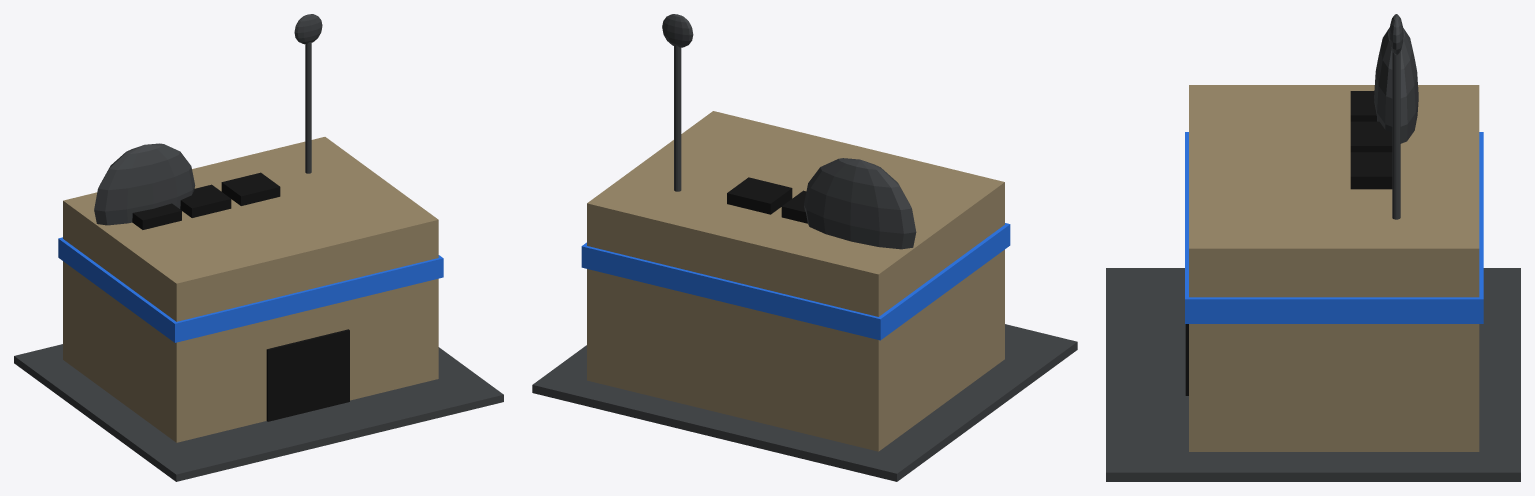
File: ae_command_hq.glb
3 views of the same model, side by side, from view 1: azimuth 30°, elevation 25°; view 2: azimuth 150°, elevation 25°; view 3: azimuth 270°, elevation 25° (orthographic). The views are drawn at different scales.
Visible parts, largest first — view 1: main, base, team_band, door, dish_big, vent_2, vent_1, mast, vent_0, dish; view 2: main, base, team_band, dish_big, vent_2, mast, dish, vent_1; view 3: main, base, team_band, dish_big, vent_2, mast, vent_1, vent_0, dish.
Part boxes in pixels (bbox=[...]): main: bbox=[63, 137, 438, 442]; base: bbox=[14, 344, 503, 481]; team_band: bbox=[58, 237, 443, 342]; door: bbox=[266, 329, 349, 421]; dish_big: bbox=[94, 143, 195, 225]; vent_2: bbox=[221, 172, 280, 205]; vent_1: bbox=[180, 184, 231, 217]; mast: bbox=[305, 42, 311, 173]; vent_0: bbox=[132, 203, 181, 229]; dish: bbox=[294, 14, 322, 44]; main: bbox=[587, 111, 1004, 451]; base: bbox=[532, 324, 1077, 481]; team_band: bbox=[581, 223, 1010, 340]; dish_big: bbox=[804, 158, 916, 249]; vent_2: bbox=[727, 177, 792, 214]; mast: bbox=[674, 45, 681, 191]; dish: bbox=[662, 14, 693, 47]; vent_1: bbox=[781, 190, 807, 223]; main: bbox=[1189, 85, 1479, 451]; base: bbox=[1106, 268, 1520, 481]; team_band: bbox=[1185, 132, 1483, 323]; dish_big: bbox=[1374, 27, 1418, 143]; vent_2: bbox=[1350, 152, 1392, 189]; mast: bbox=[1392, 52, 1400, 219]; vent_1: bbox=[1350, 121, 1392, 152]; vent_0: bbox=[1350, 91, 1376, 121]; dish: bbox=[1389, 14, 1403, 55].
Size of the model in its own units: 14 by 13.25 by 12.
